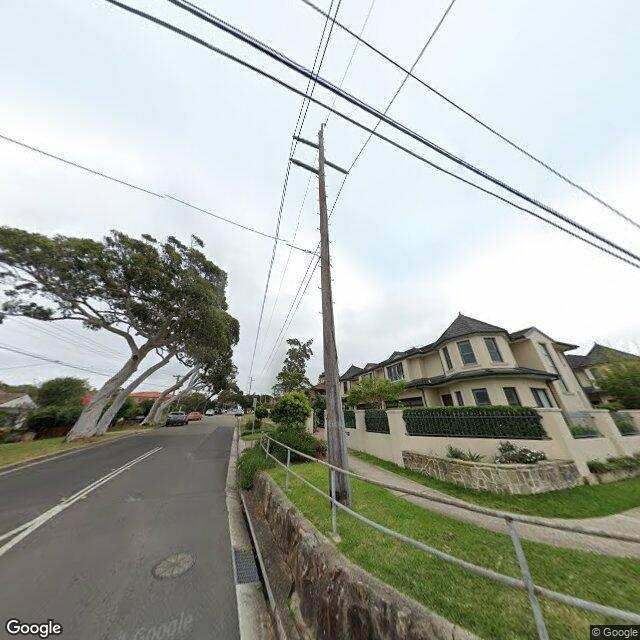HV-transmission: (289, 120, 350, 176)
timber-pole: (317, 132, 350, 504)
